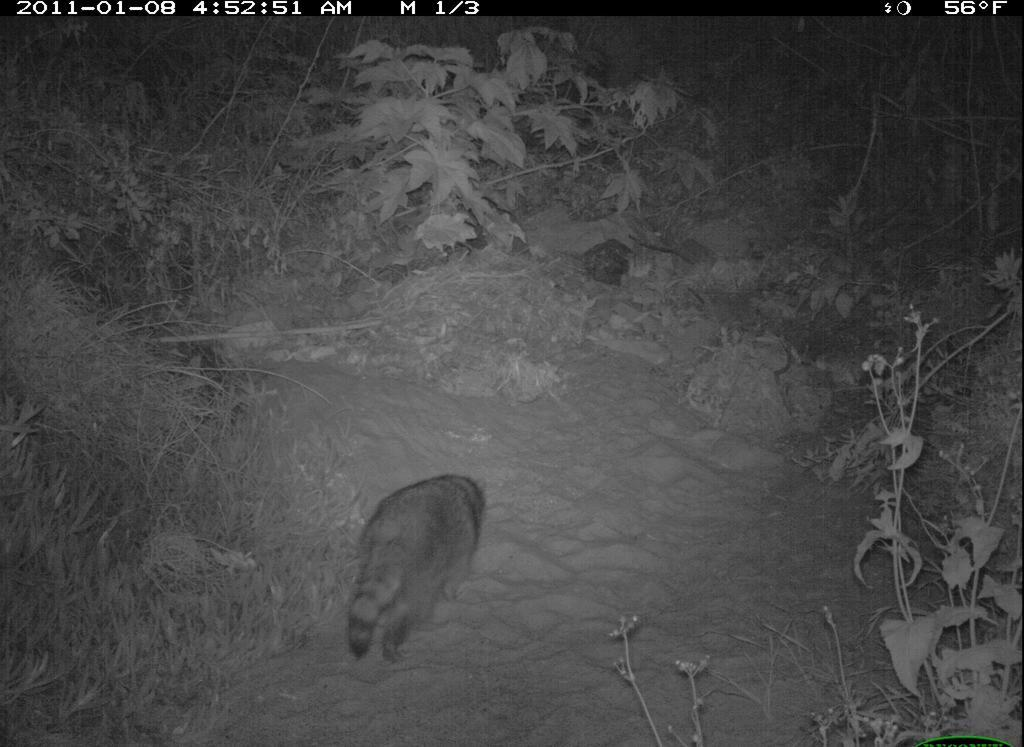raccoon: (345, 464, 511, 670)
